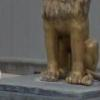Statue: (34, 2, 92, 87)
